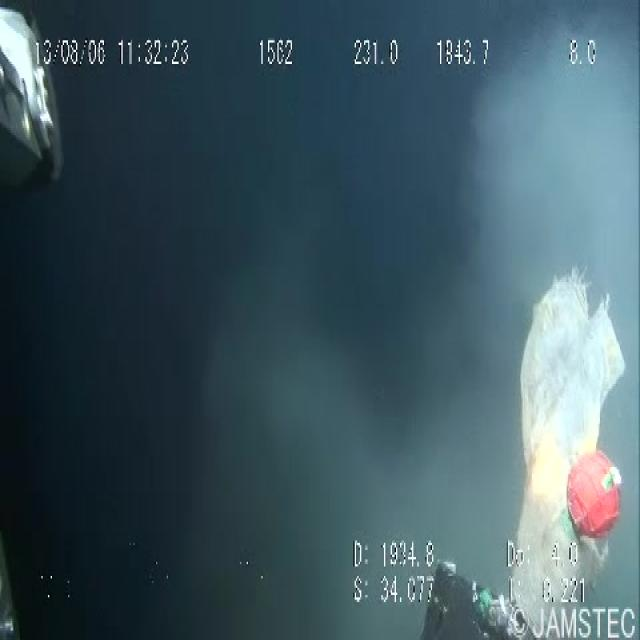plastic: (500, 249, 629, 638)
